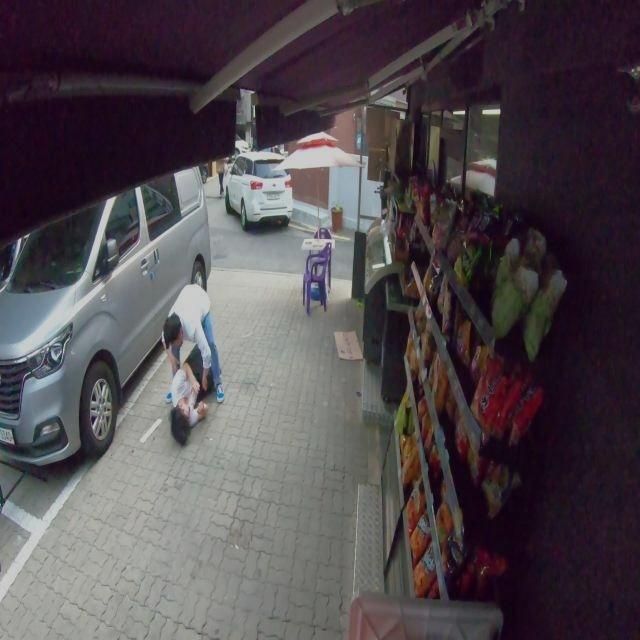fight: (158, 275, 226, 444)
